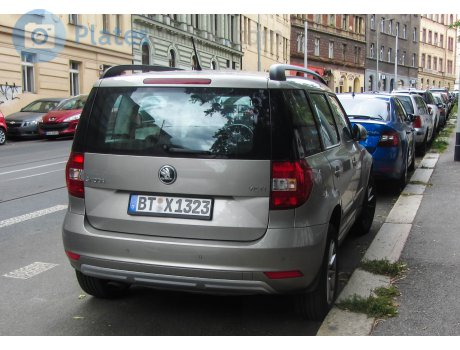License Plates: (137, 195, 208, 213)
